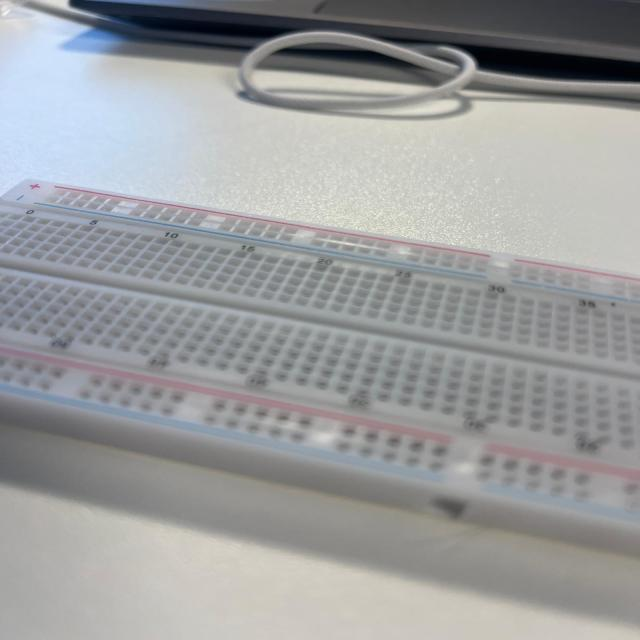BreadBoard: (13, 174, 640, 563)
